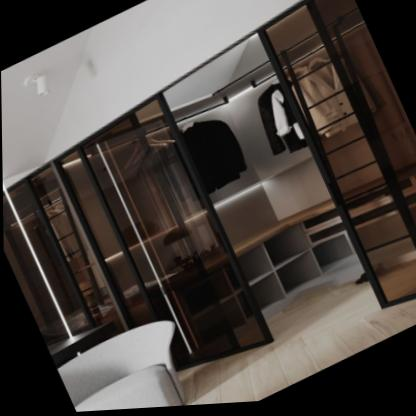Transparent Closet: (2, 0, 416, 371)
